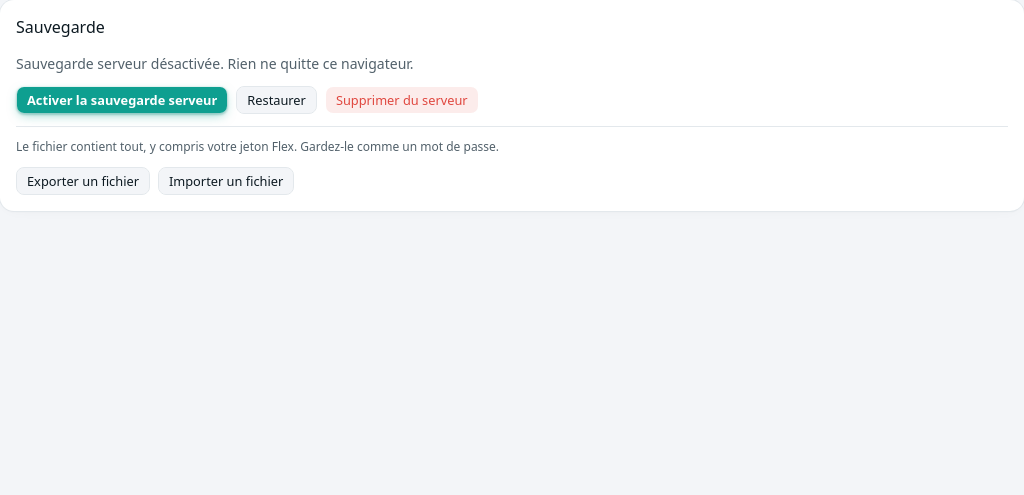
Test: BackupCard › annuler emporte le message que le formulaire a produit
This screenshot has width=1024, height=495.
Click the button "Activer la sauvegarde serveur".
click(122, 100)  # box [16,86,228,114]
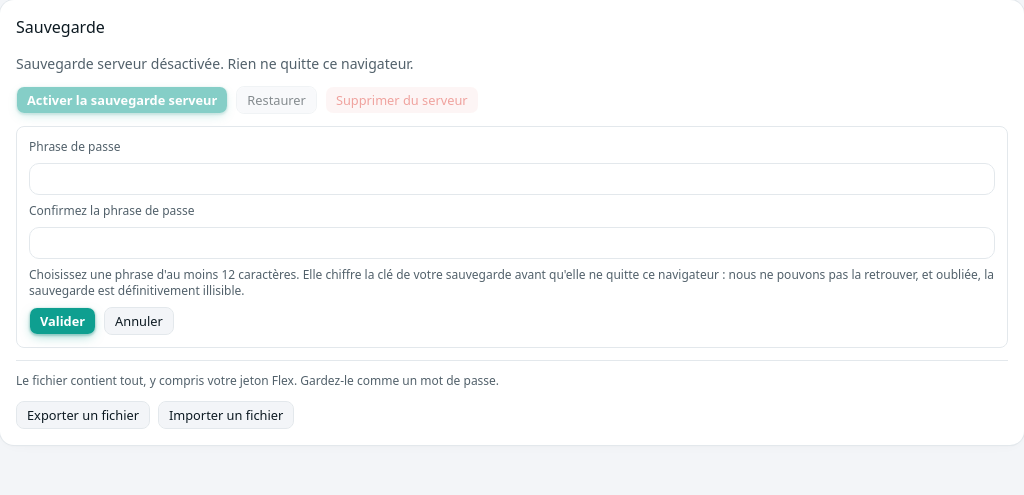
Type "une phrase de passe" into the password field labelled "Phrase de passe".
click(512, 179); type("une phrase de passe")  # box [29,163,995,195]
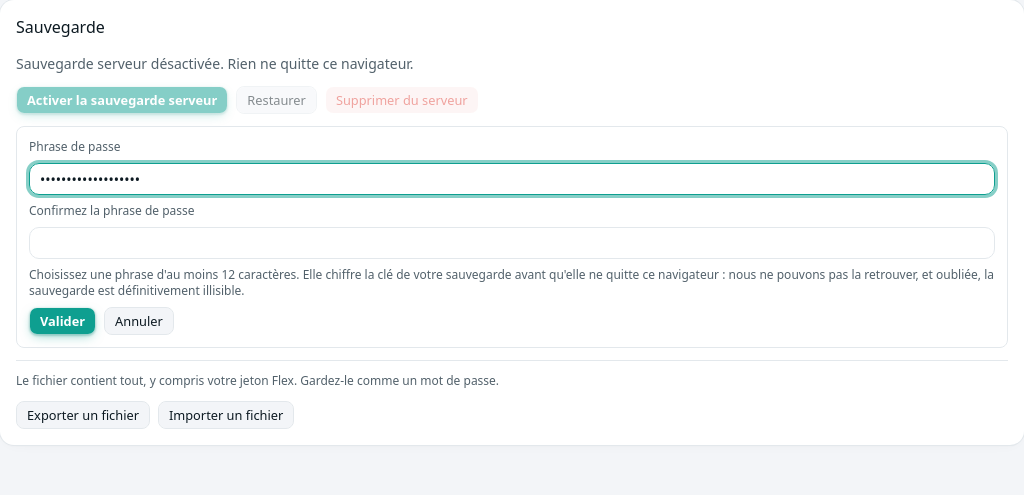
Type "une autre phrase" into the password field labelled "Confirmez la phrase de passe".
click(512, 243); type("une autre phrase")  # box [29,227,995,259]
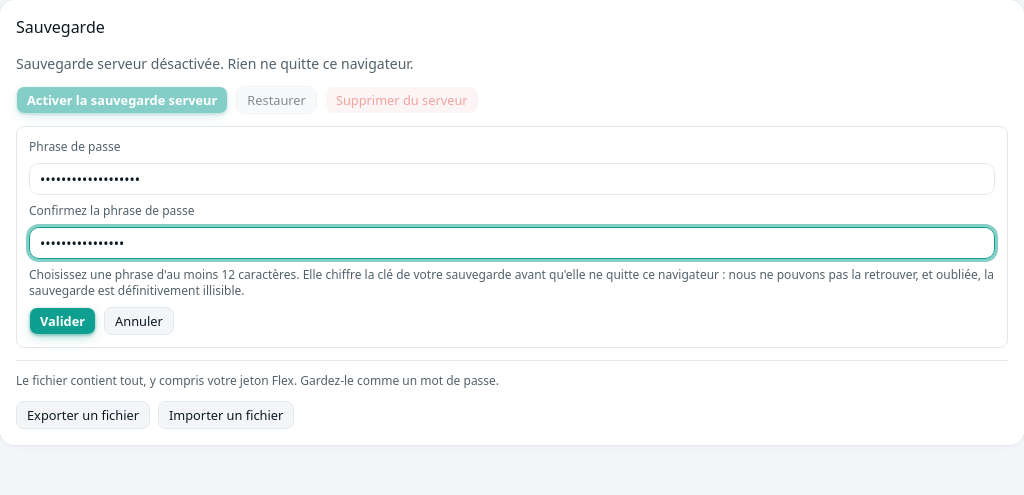
Click the button "Valider".
click(63, 321)  # box [29,307,96,335]
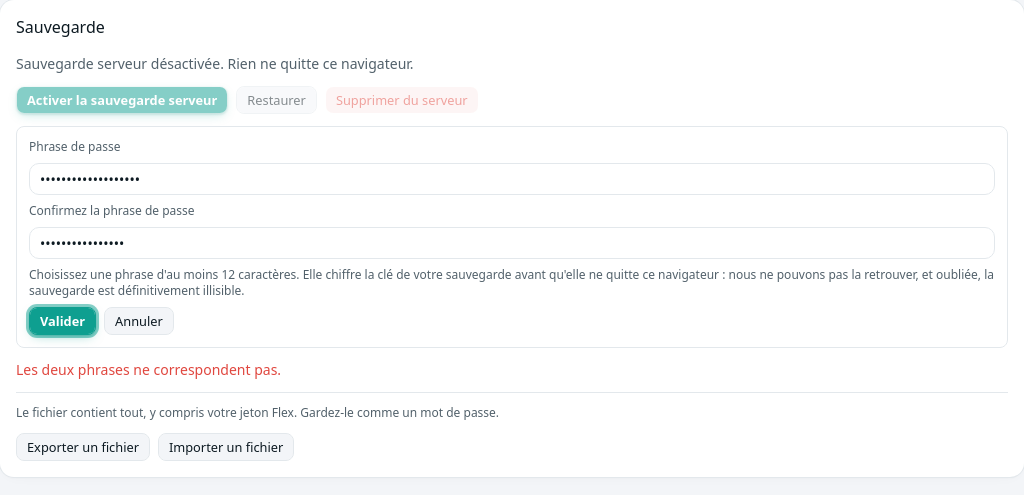
Result: the message "Les deux phrases ne correspondent pas." is shown at [16,360,281,379]
Click the button "Annuler".
click(139, 321)  # box [104,307,174,335]
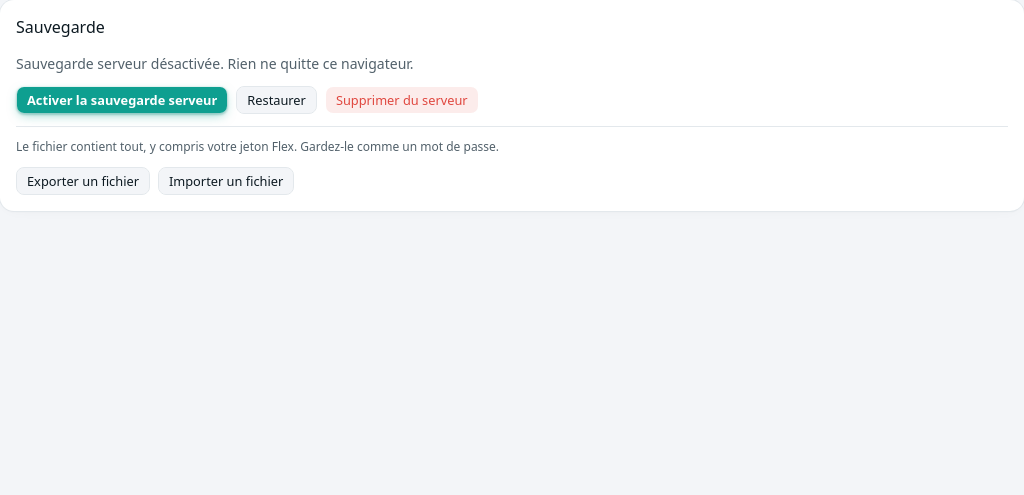
Result: the message "Les deux phrases ne correspondent pas." is gone
Result: the label labelled "Phrase de passe" is gone
